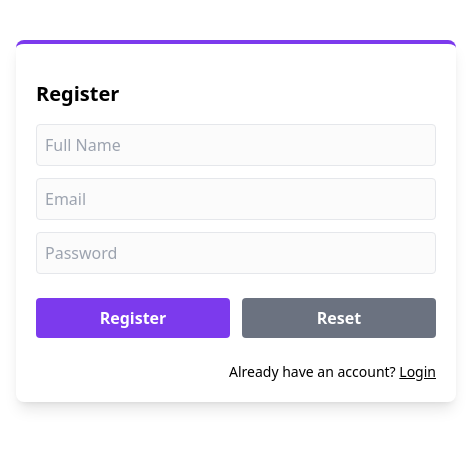
Scenario: Register Form › should display an error message when fields are missing
Click the submit button: (133, 318) [36, 298, 230, 338]
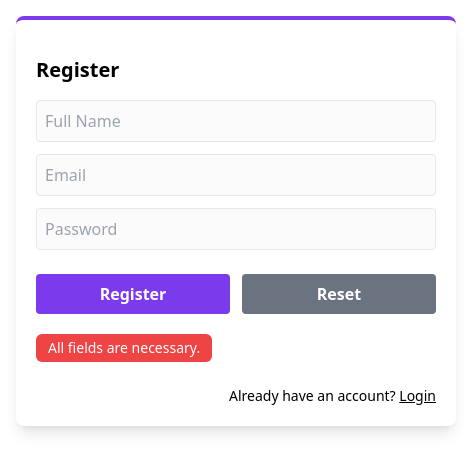
Now the text "All fields are necessary." is shown, box [36, 334, 212, 362]
